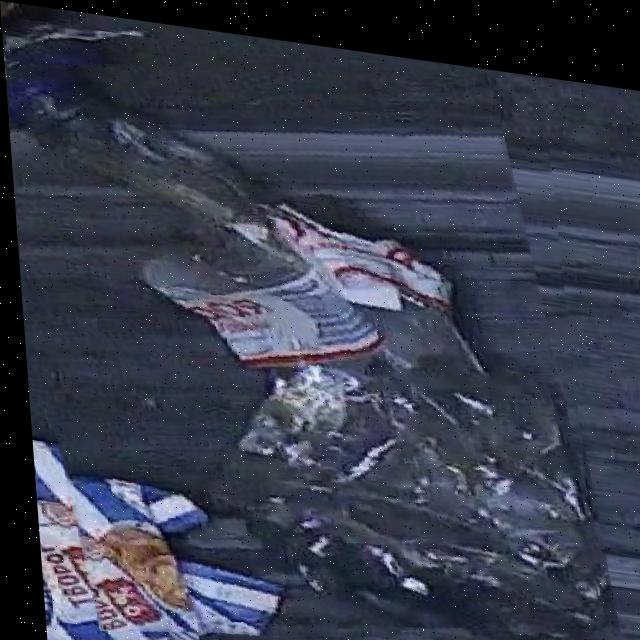plasticbottle: (2, 15, 599, 640)
